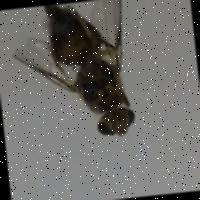Oriental-fruit-fly: (4, 0, 149, 149)
